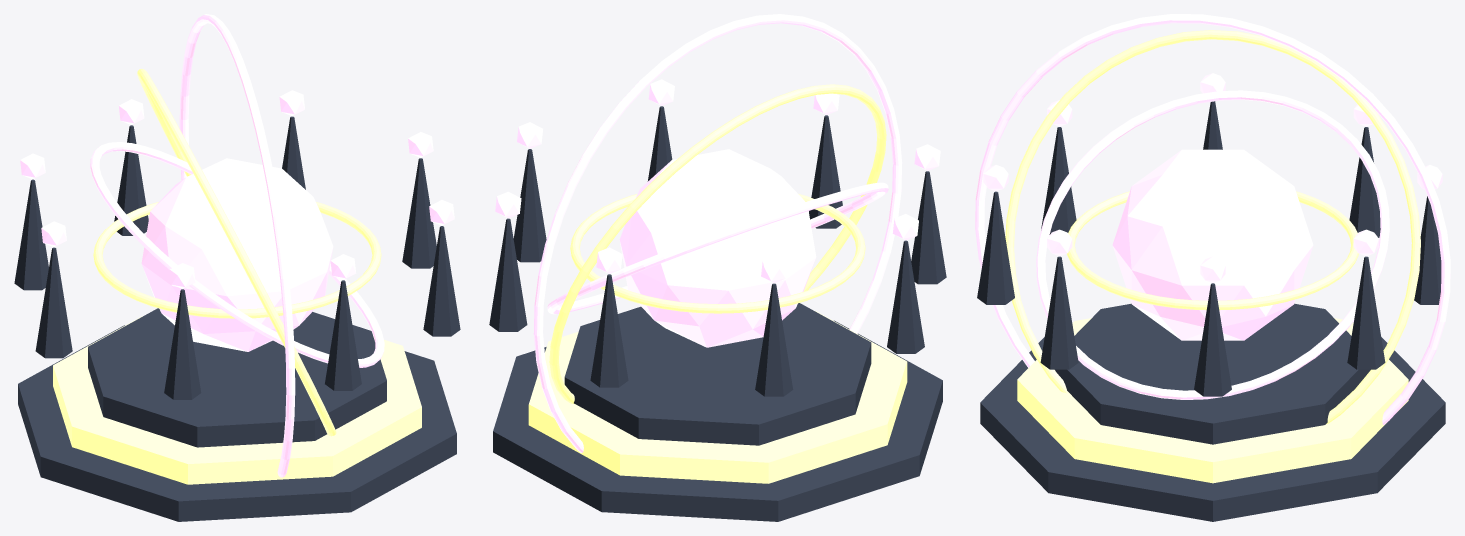
File: gpu-blender-v14.glb
3 views of the same model, side by side, from view 1: azimuth 30°, elevation 25°; view 2: azimuth 150°, elevation 25°; view 3: azimuth 270°, elevation 25° (orthographic). The views are drawn at different scales.
Visible parts, largest first — view 1: Cylinder.002, SovereignCore_muse-code-linux, Cylinder, Cylinder.001, Torus.003, Torus.001, Torus.002, Torus, Cone.004, Cone.007, Cone.005, Cone.006 (+12 smaller); view 2: Cylinder.002, SovereignCore_muse-code-linux, Cylinder, Cylinder.001, Torus.003, Torus.002, Torus.001, Torus, Cone.002, Cone.003, Cone.001, Cone.004 (+11 smaller); view 3: SovereignCore_muse-code-linux, Cylinder.002, Cylinder, Cylinder.001, Torus.003, Torus.002, Torus.001, Torus, Cone, Cone.001, Cone.007, Cone.006 (+8 smaller).
Part boxes in pixels (box(x1,y1,x2,y2)): Cylinder.002: box(88, 308, 386, 447); SovereignCore_muse-code-linux: box(141, 158, 333, 351); Cylinder: box(18, 325, 456, 521); Cylinder.001: box(53, 316, 421, 484); Torus.003: box(179, 14, 295, 477); Torus.001: box(90, 142, 384, 367); Torus.002: box(137, 69, 336, 436); Torus: box(93, 202, 381, 318); Cone.004: box(35, 247, 72, 358); Cone.007: box(423, 226, 460, 336); Cone.005: box(164, 289, 201, 399); Cone.006: box(325, 280, 361, 390); Cylinder.002: box(564, 303, 871, 445); SovereignCore_muse-code-linux: box(619, 149, 816, 347); Cylinder: box(493, 320, 942, 521); Cylinder.001: box(528, 311, 907, 483); Torus.003: box(533, 14, 902, 452); Torus.002: box(549, 84, 886, 403); Torus.001: box(547, 182, 888, 314); Torus: box(570, 193, 865, 313); Cone.002: box(590, 274, 628, 387); Cone.003: box(755, 283, 793, 396); Cone.001: box(489, 218, 527, 331); Cone.004: box(887, 240, 924, 353); SovereignCore_muse-code-linux: box(1112, 149, 1313, 340); Cylinder.002: box(1055, 303, 1370, 444); Cylinder: box(980, 337, 1445, 521); Cylinder.001: box(1017, 318, 1408, 483); Torus.003: box(975, 14, 1450, 424); Torus.002: box(1005, 30, 1420, 423); Torus.001: box(1036, 90, 1389, 399); Torus: box(1067, 191, 1358, 310); Cone: box(1194, 283, 1231, 396); Cone.001: box(1347, 256, 1385, 369); Cone.007: box(1040, 256, 1078, 369); Cone.006: box(977, 191, 1014, 304).
Size of the model in its own units: 4.41 by 4.7 by 4.49.
